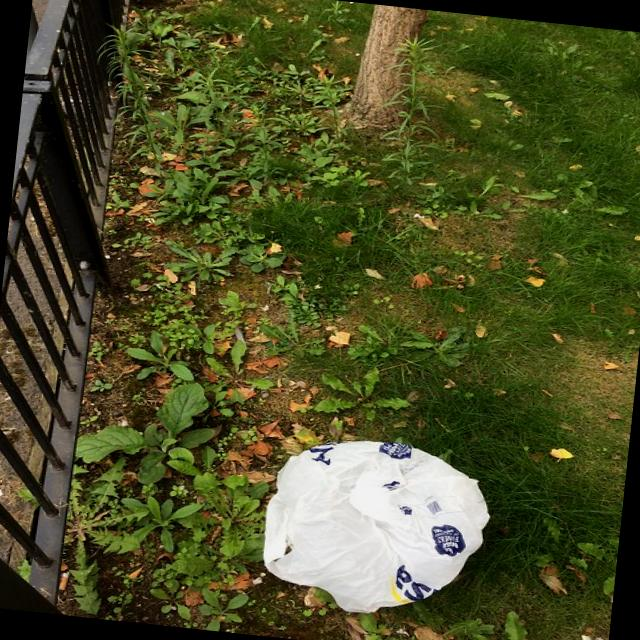Trash: (253, 428, 499, 630)
